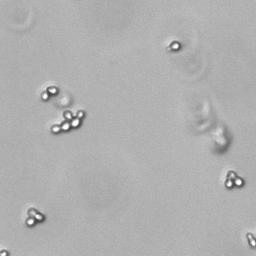budding: (225, 170, 244, 190), (26, 208, 44, 227), (243, 228, 256, 250), (40, 86, 58, 101), (166, 41, 182, 52)
cluster: (50, 109, 88, 135)
